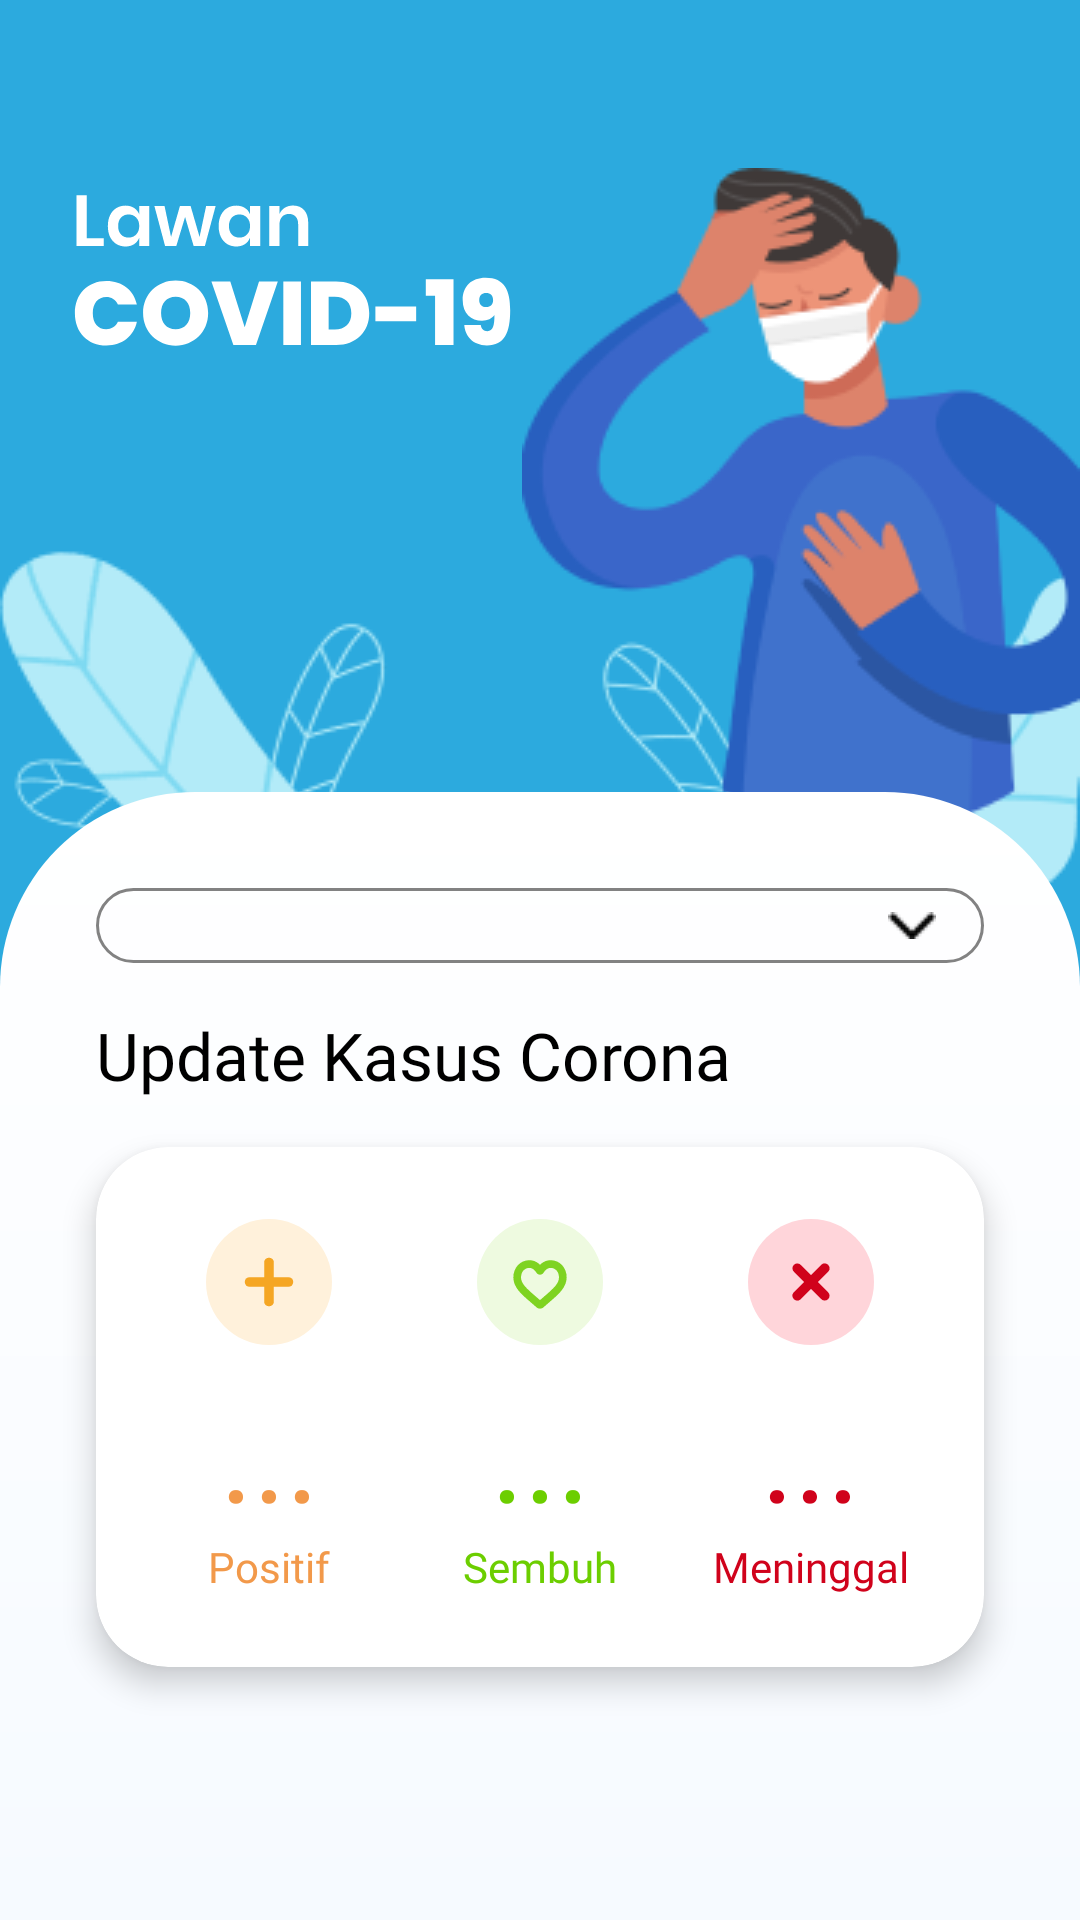

Locate icon controls on the screen. Image size 1080*1920, boxes as (x1, y1, x2, y2).
death: (748, 1219, 874, 1345)
health: (477, 1219, 603, 1345)
positive: (206, 1219, 332, 1345)
